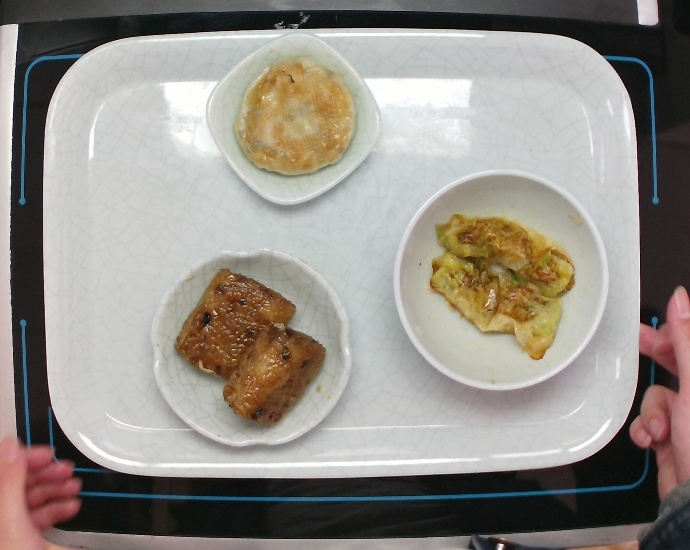JYsf-Ao_Yuan_Wan: (144, 240, 362, 460)
JYsf-Fan_Wan: (388, 167, 616, 397)
JYsf-Si_Fang_Die: (201, 34, 386, 216)
